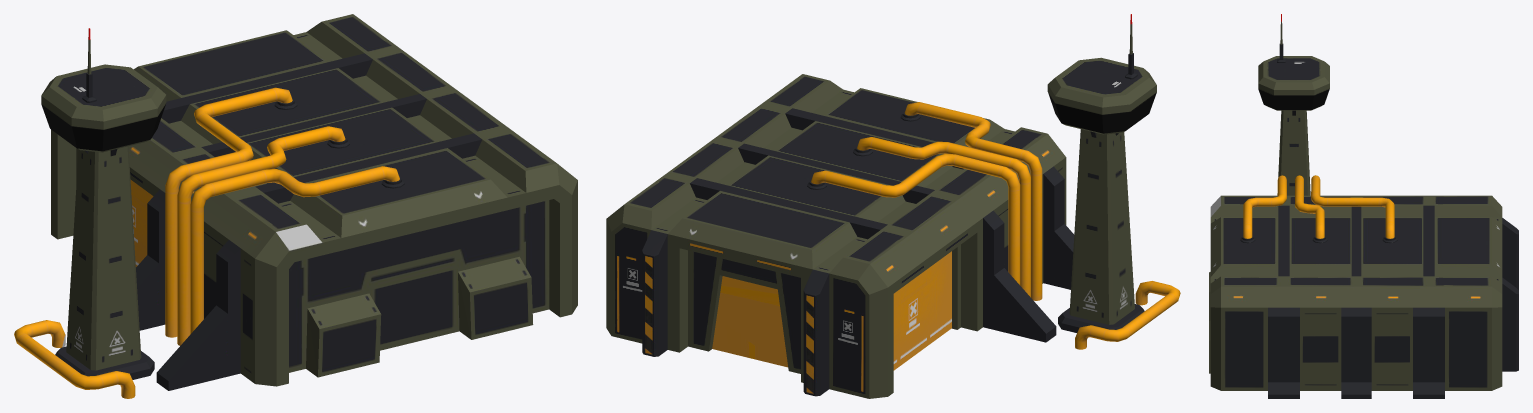
File: 信号塔.obj
3 renders of one model, left to right at view 1: azimuth 30°, elevation 25°; view 2: azimuth 150°, elevation 25°; view 3: azimuth 270°, elevation 25°, orthographic. The views are drawn at different scales.
Visible parts, largest first — view 1: 型号塔_型号塔_hangar.001, 型号塔_型号塔_side_door.001; view 2: 型号塔_型号塔_hangar.001, 型号塔_型号塔_front_door.001, 型号塔_型号塔_side_door.001; view 3: 型号塔_型号塔_hangar.001.
Part boxes in pixels (x1,y1,x2,y2): 型号塔_型号塔_hangar.001: [14, 14, 577, 398]; 型号塔_型号塔_side_door.001: [130, 180, 153, 266]; 型号塔_型号塔_hangar.001: [606, 14, 1180, 398]; 型号塔_型号塔_front_door.001: [712, 276, 788, 367]; 型号塔_型号塔_side_door.001: [893, 251, 951, 370]; 型号塔_型号塔_hangar.001: [1209, 14, 1518, 398].
Bounding box in the file's own units: 16.54 × 11.07 × 13.29.
